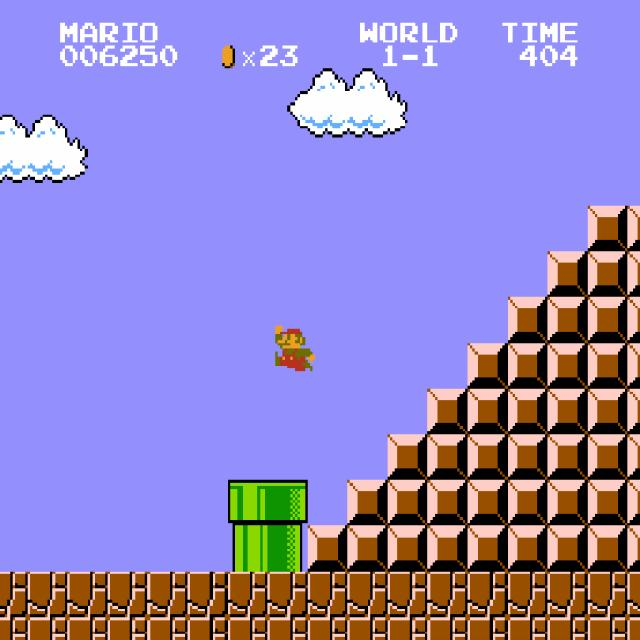hard_block: (347, 480, 388, 526), (387, 434, 428, 480), (387, 480, 428, 526), (427, 434, 468, 480), (427, 480, 468, 526), (467, 434, 508, 480), (467, 480, 508, 526), (507, 297, 548, 343), (507, 434, 548, 480), (507, 480, 548, 526), (547, 297, 588, 343), (547, 434, 588, 480), (547, 480, 588, 526), (587, 297, 628, 343), (587, 434, 628, 480), (587, 480, 628, 526), (307, 526, 348, 571), (347, 526, 388, 571), (387, 526, 428, 571), (427, 389, 468, 434), (427, 526, 468, 571), (467, 343, 508, 388), (467, 389, 508, 434), (467, 526, 508, 571), (507, 343, 548, 388), (507, 389, 548, 434), (507, 526, 548, 571), (547, 252, 588, 297), (547, 343, 588, 388), (547, 389, 588, 434), (547, 526, 588, 571), (587, 206, 628, 251), (587, 252, 628, 297), (587, 343, 628, 388), (587, 389, 628, 434), (587, 526, 628, 571), (627, 297, 640, 343), (627, 434, 640, 480), (627, 480, 640, 526), (627, 206, 640, 251), (627, 252, 640, 297), (627, 343, 640, 388), (627, 389, 640, 434), (627, 526, 640, 571)
little_mario: (273, 323, 315, 372)
pipe: (227, 526, 268, 571), (267, 526, 308, 571)
pipe_head: (227, 480, 268, 526), (267, 480, 308, 526)
undestructible_block: (27, 572, 68, 617), (67, 572, 108, 617), (107, 572, 148, 617), (147, 572, 188, 617), (187, 572, 228, 617), (227, 572, 268, 617), (267, 572, 308, 617), (307, 572, 348, 617), (347, 572, 388, 617), (387, 572, 428, 617), (427, 572, 468, 617), (467, 572, 508, 617), (507, 572, 548, 617), (547, 572, 588, 617), (587, 572, 628, 617), (0, 572, 28, 617), (27, 617, 68, 640), (67, 617, 108, 640), (107, 617, 148, 640), (147, 617, 188, 640), (187, 617, 228, 640), (227, 617, 268, 640), (267, 617, 308, 640), (307, 617, 348, 640), (347, 617, 388, 640), (387, 617, 428, 640), (427, 617, 468, 640), (467, 617, 508, 640), (507, 617, 548, 640), (547, 617, 588, 640), (587, 617, 628, 640), (0, 617, 28, 640), (627, 572, 640, 617), (627, 617, 640, 640)
